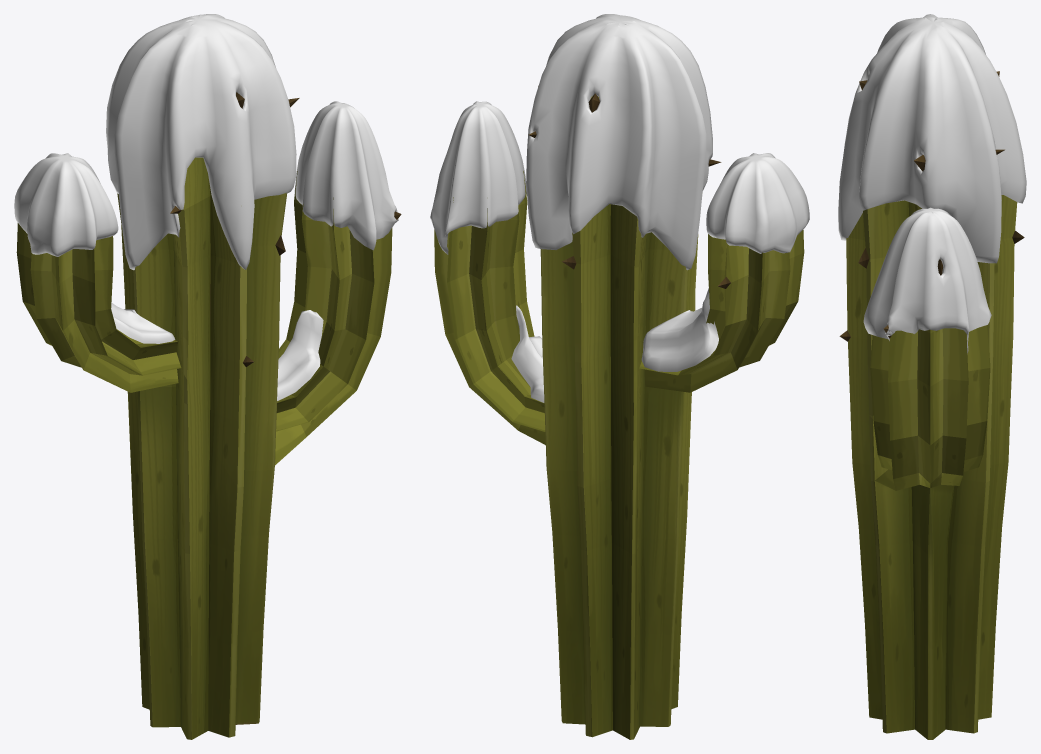
File: 선인장11_snow.FBX
3 renders of one model, left to right at view 1: azimuth 30°, elevation 25°; view 2: azimuth 150°, elevation 25°; view 3: azimuth 270°, elevation 25°, orthographic.
Parts seen in each view (by area): view 1: Star002, Object005; view 2: Star002, Object005; view 3: Star002, Object005.
Part boxes in pixels (x1,y1,x2,y2): Star002: (16,92,401,739); Object005: (14,14,398,400); Star002: (434,86,804,739); Object005: (430,14,809,402); Star002: (839,71,1024,739); Object005: (838,14,1026,353).
Bounding box in the file's own units: 182 × 340 × 83.93.
